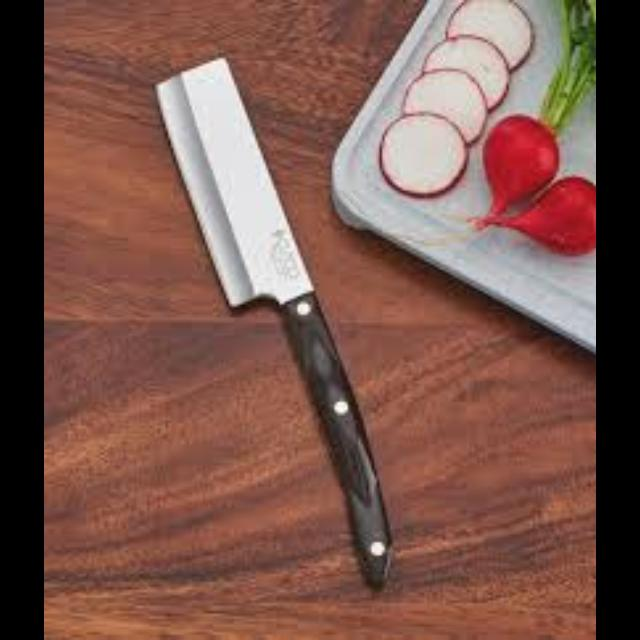knife: (153, 53, 393, 589)
